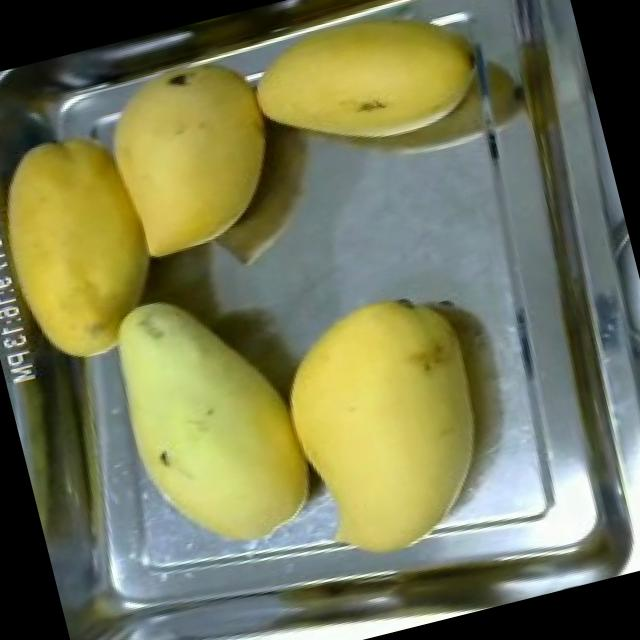fruit: (239, 258, 529, 589), (73, 253, 345, 585), (83, 44, 309, 279), (0, 106, 186, 386), (233, 0, 500, 180)
